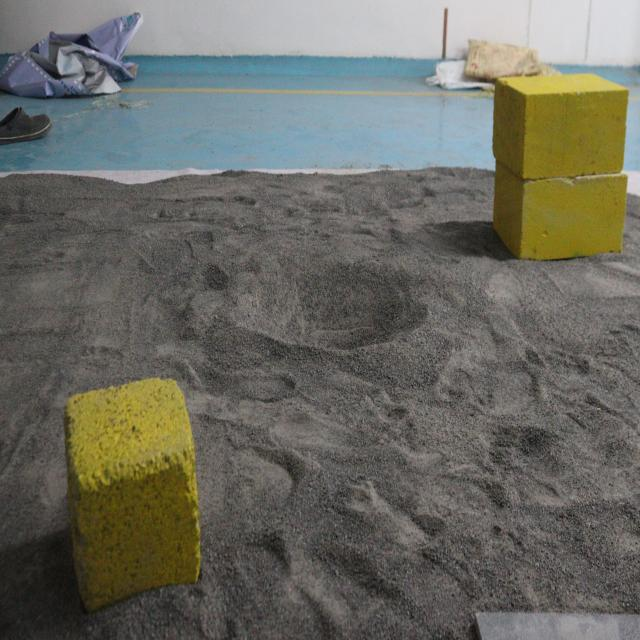box: (59, 376, 203, 606), (493, 64, 630, 271)
crater: (198, 245, 439, 361)
